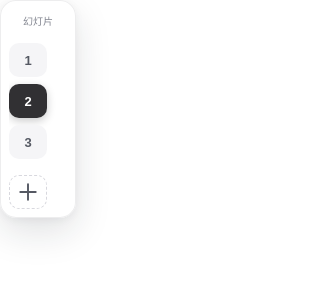
Scenario: SlideRail › limits the navigation menu to copy, export, and delete
This screenshot has width=320, height=294.
Right-click the element showing "2" at (28, 101), box [9,84,47,118]
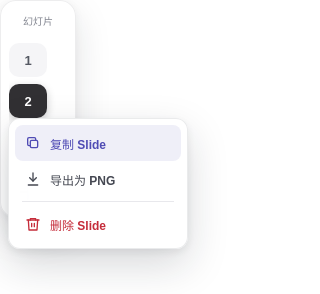
Expected: the menu items read "复制 Slide", "导出为 PNG", "删除 Slide", in this order, [15,125,181,161]; [15,161,181,197]; [15,206,181,242]
